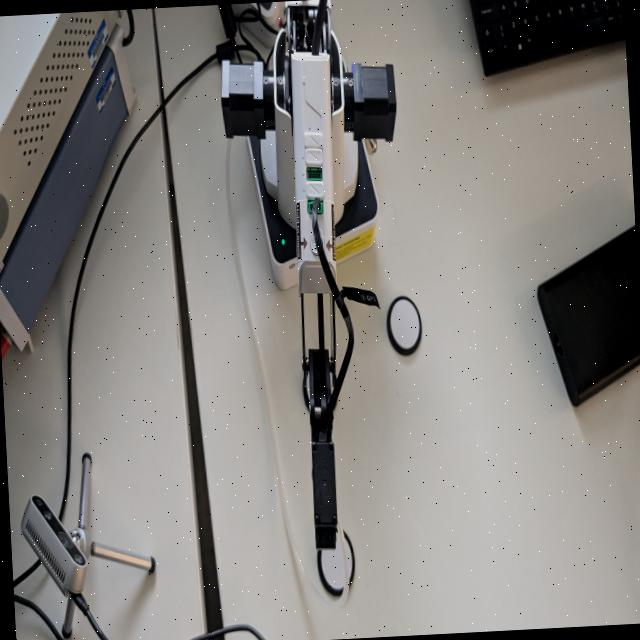Robot-end-effector-HF8z: (308, 428, 344, 560)
